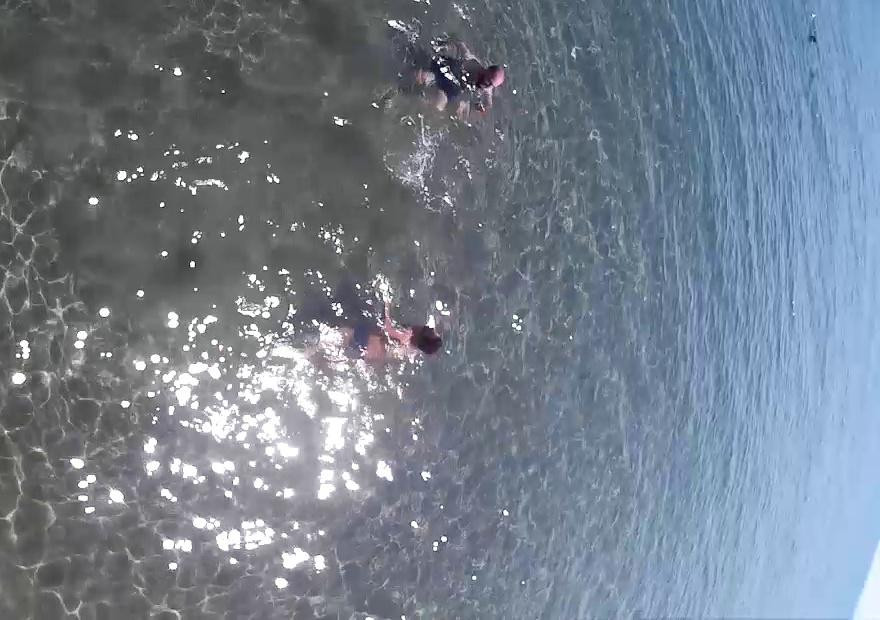human: (305, 268, 454, 406), (358, 29, 500, 160)
